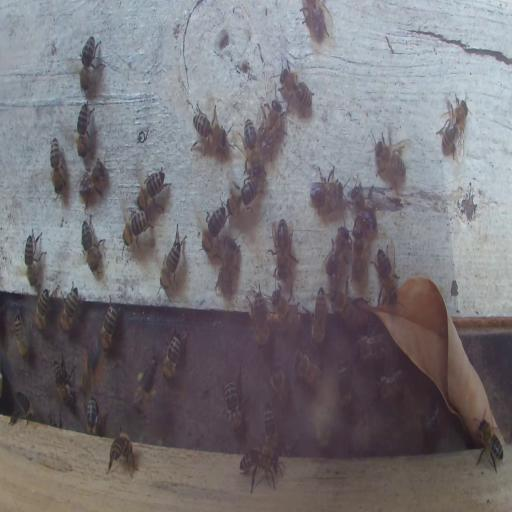nonpollenbee: (435, 94, 469, 159), (239, 445, 285, 492), (270, 285, 305, 344), (190, 102, 226, 158), (159, 223, 186, 292), (474, 417, 505, 474), (136, 168, 172, 216), (278, 65, 313, 114), (270, 218, 298, 277), (310, 165, 343, 214), (372, 248, 398, 308), (106, 430, 138, 478), (202, 196, 228, 254), (375, 133, 407, 179), (80, 216, 104, 276), (350, 185, 380, 233), (257, 96, 281, 156), (249, 285, 271, 350), (223, 370, 245, 435), (224, 176, 258, 218), (79, 35, 104, 92), (355, 328, 390, 367), (217, 237, 241, 293), (78, 158, 108, 202), (24, 228, 46, 288), (300, 0, 332, 41), (321, 230, 349, 276), (54, 352, 76, 408), (75, 99, 95, 159), (161, 328, 184, 380), (352, 224, 370, 288), (336, 354, 355, 414), (99, 299, 120, 353), (268, 359, 289, 413), (329, 285, 358, 324), (123, 208, 152, 245), (294, 350, 322, 388), (373, 368, 405, 401), (60, 282, 81, 332), (243, 116, 261, 173), (311, 286, 327, 346), (419, 401, 443, 437), (50, 136, 64, 193), (14, 308, 28, 360), (86, 395, 104, 435), (35, 286, 50, 331), (264, 401, 277, 446), (12, 392, 32, 420)
pollenbee: (133, 352, 158, 416), (83, 338, 103, 394)
